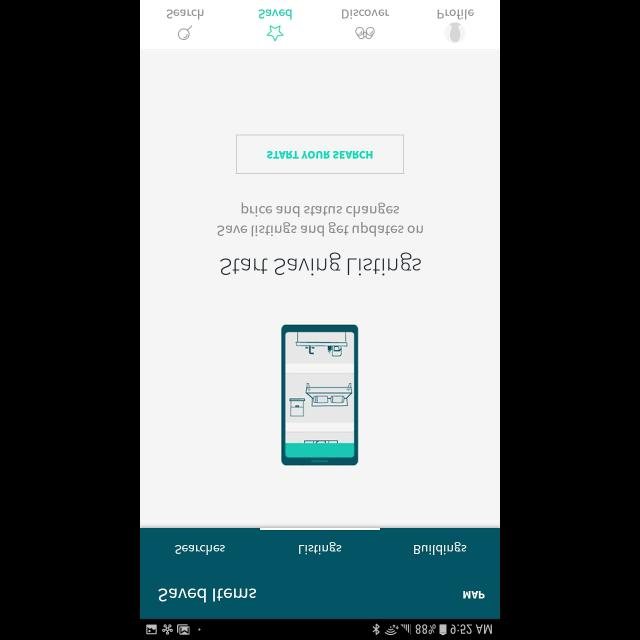icon: (444, 23, 466, 45), (266, 25, 284, 41), (178, 26, 194, 40)
image: (281, 324, 359, 466), (356, 26, 376, 40)
text: (217, 202, 423, 238), (220, 252, 422, 276), (159, 588, 257, 602), (414, 541, 466, 555), (175, 544, 225, 556), (298, 542, 342, 554), (342, 9, 390, 19), (260, 8, 292, 20), (168, 9, 205, 19), (438, 9, 474, 19), (463, 590, 485, 598)
textbutton: (236, 134, 404, 174)
uppertaskbar: (140, 618, 500, 640)
